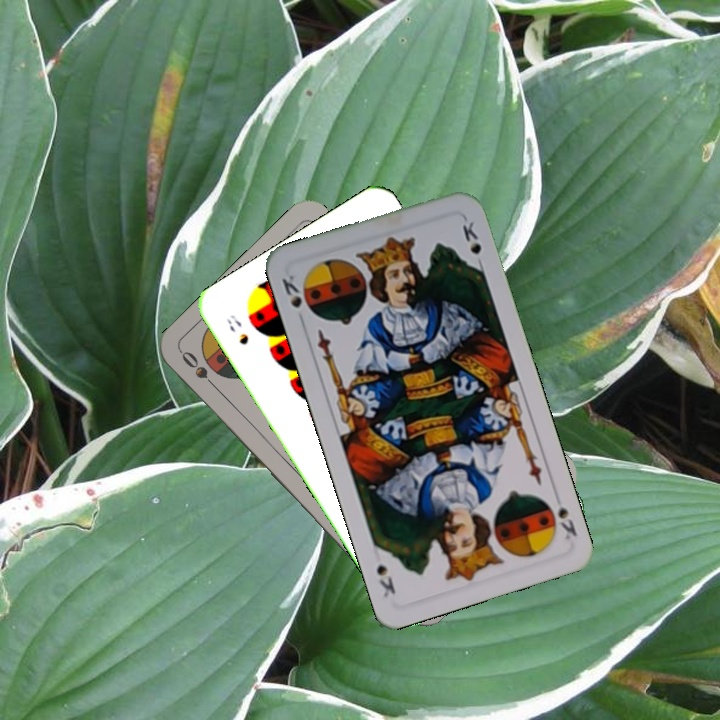S8: (223, 310, 251, 347)
SK: (541, 488, 580, 542), (278, 270, 305, 311)
SO: (177, 347, 223, 395)
